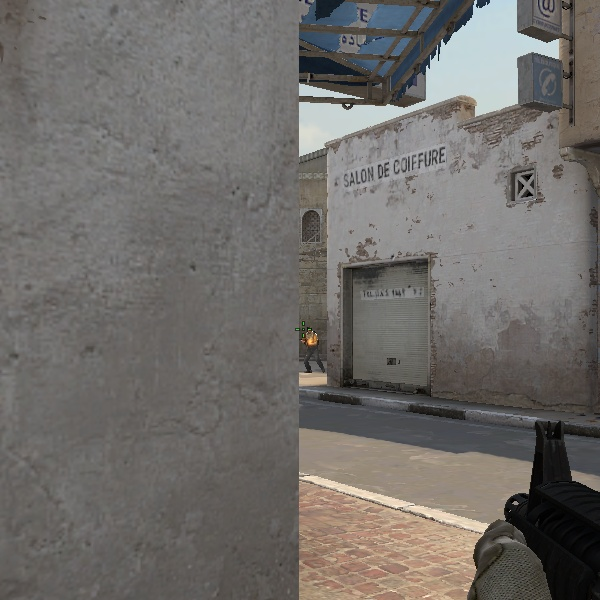t_body: (298, 324, 325, 376)
t_head: (304, 325, 315, 336)
